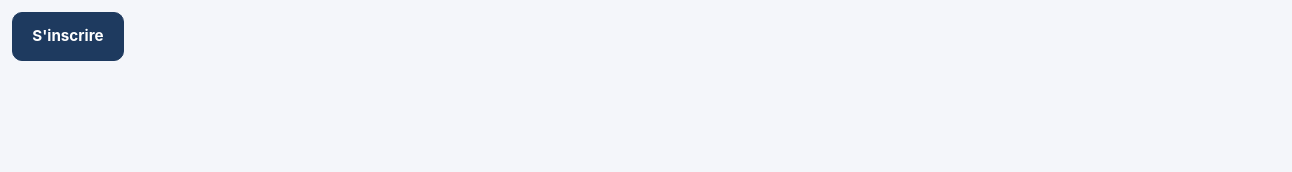
Test case: RegistrationAction › clic sur S'inscrire › [F06.5] affiche le message de l'API si l'événement est passé (400)
Step 1. Click the button "S'inscrire" → coordinates (68, 36), box [12,12,124,61]
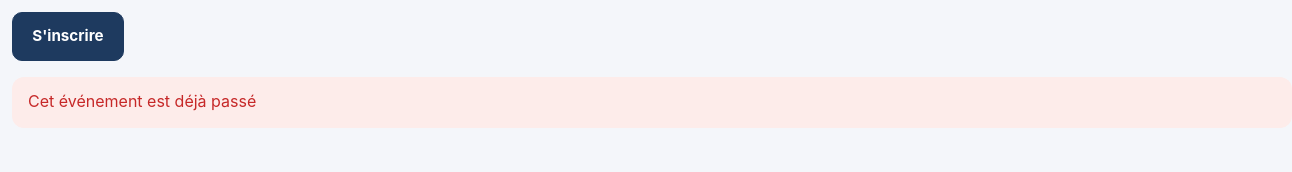
Check: the message reads "Cet événement est déjà passé", box [28,92,256,112]
